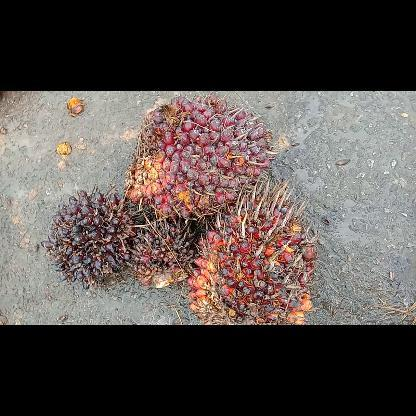TBS abnormal: (39, 186, 137, 291), (127, 217, 196, 289)
TBS masak: (184, 170, 324, 324), (121, 96, 277, 224)
